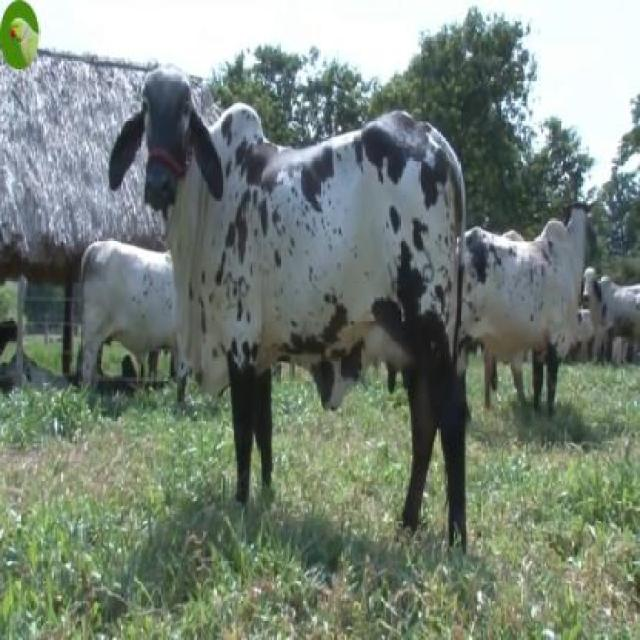Cow: (109, 75, 466, 557)
